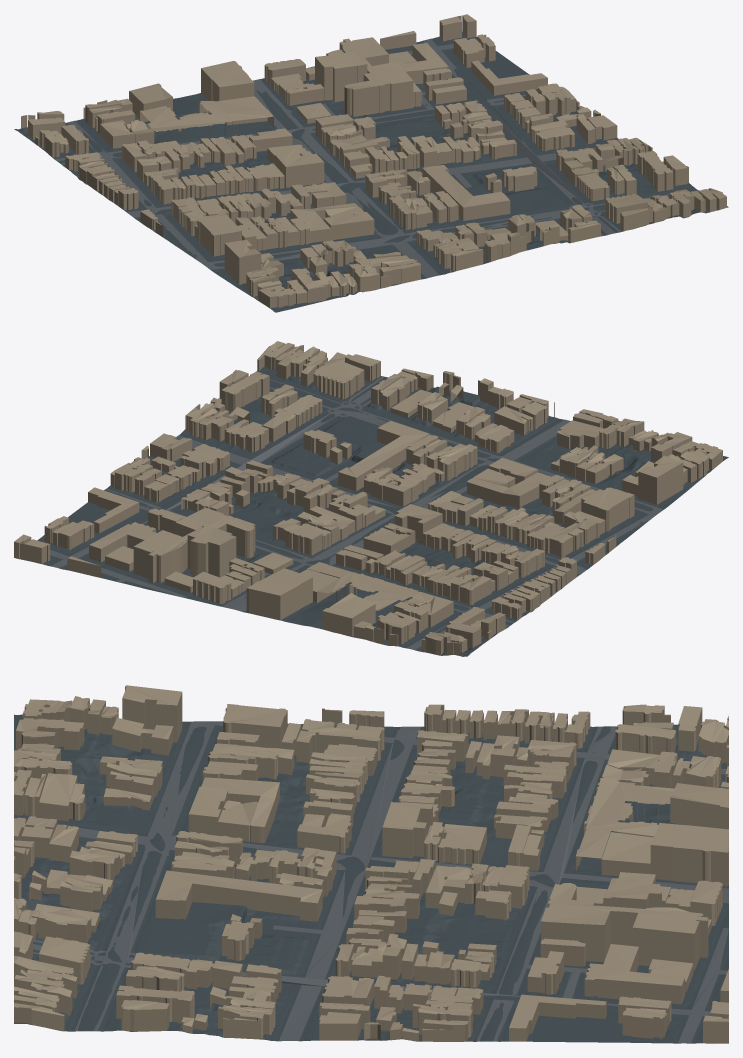
The model's file is epsg26910-1430-10891.lod0.glb.
3 renders of one model, top to bottom at view 1: azimuth 30°, elevation 25°; view 2: azimuth 150°, elevation 25°; view 3: azimuth 270°, elevation 25°, orthographic. The views are drawn at different scales.
Parts seen in each view (by area): view 1: epsg26910-1430-10891-lod0; view 2: epsg26910-1430-10891-lod0; view 3: epsg26910-1430-10891-lod0.
Boxes of the visible parts, bbox=[...] form: epsg26910-1430-10891-lod0: bbox=[14, 14, 728, 312]; epsg26910-1430-10891-lod0: bbox=[14, 341, 728, 656]; epsg26910-1430-10891-lod0: bbox=[14, 685, 728, 1043].
Bounding box in the file's own units: 384 × 35.84 × 384.
